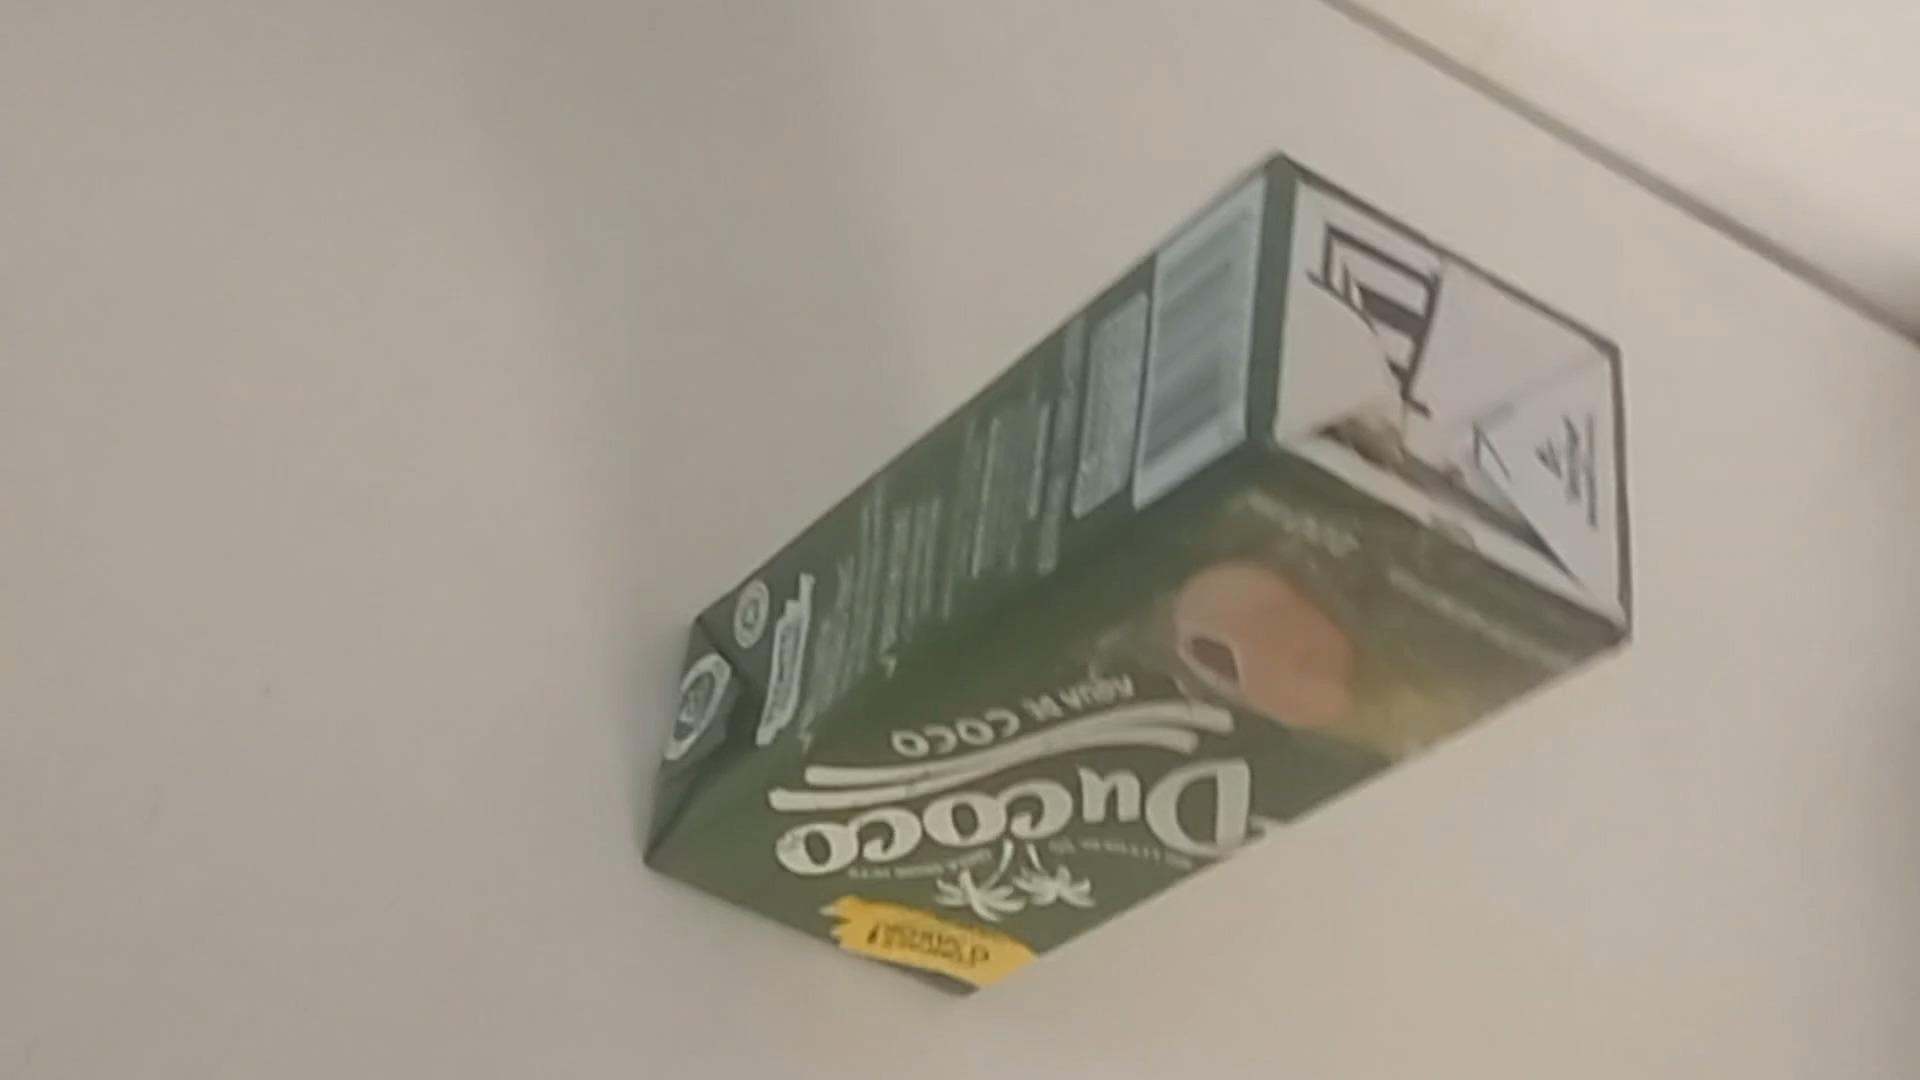coco: (649, 153, 1630, 997)
